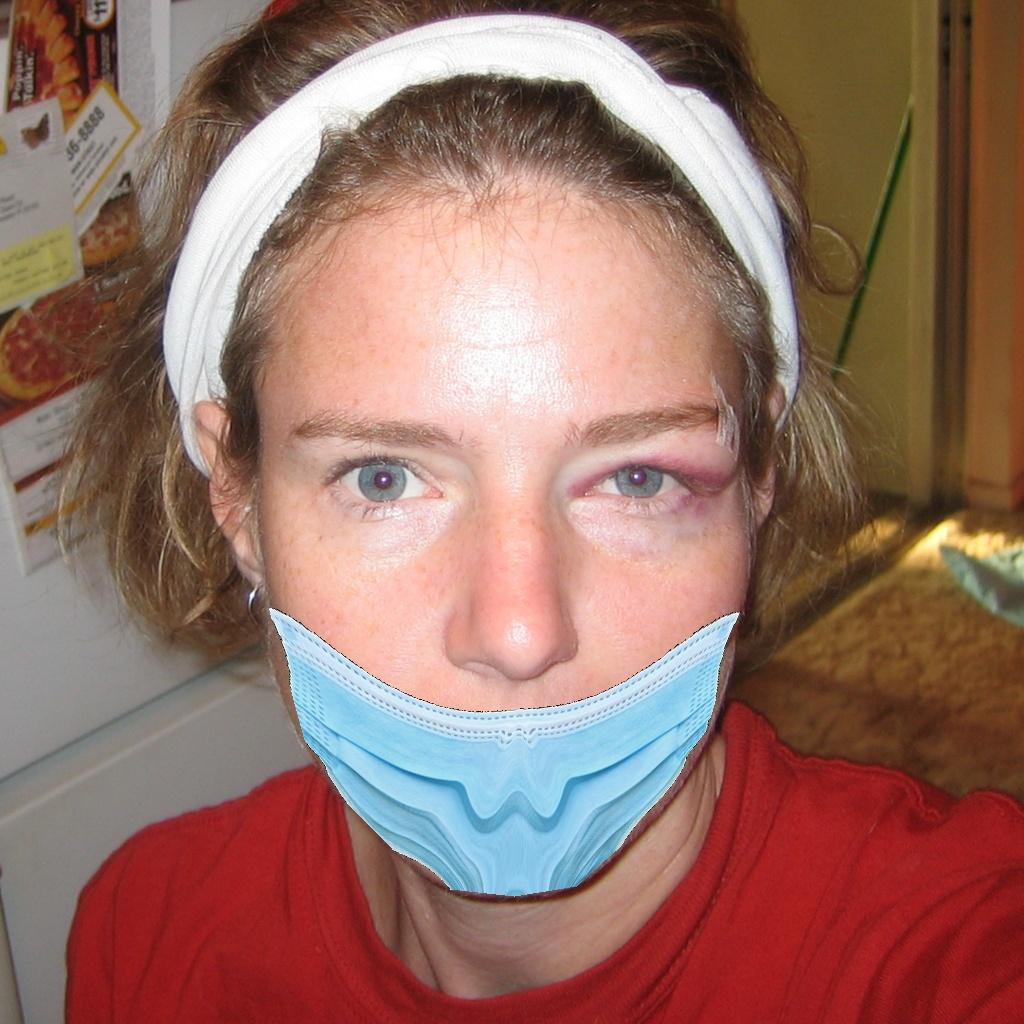Máscara Incorreta: (240, 210, 749, 889)
